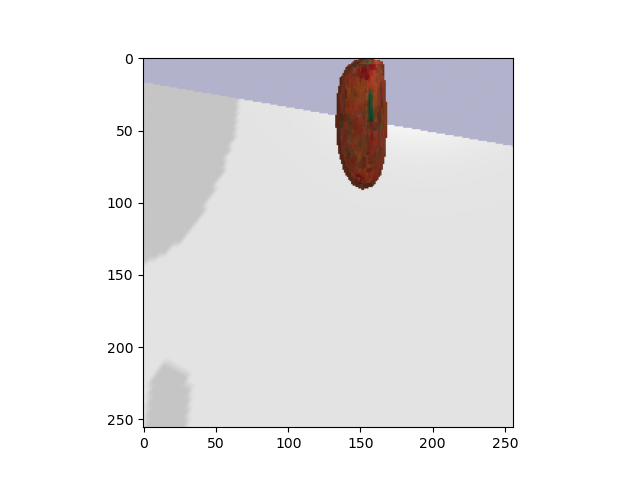v249b387_106: (323, 56, 406, 195)
